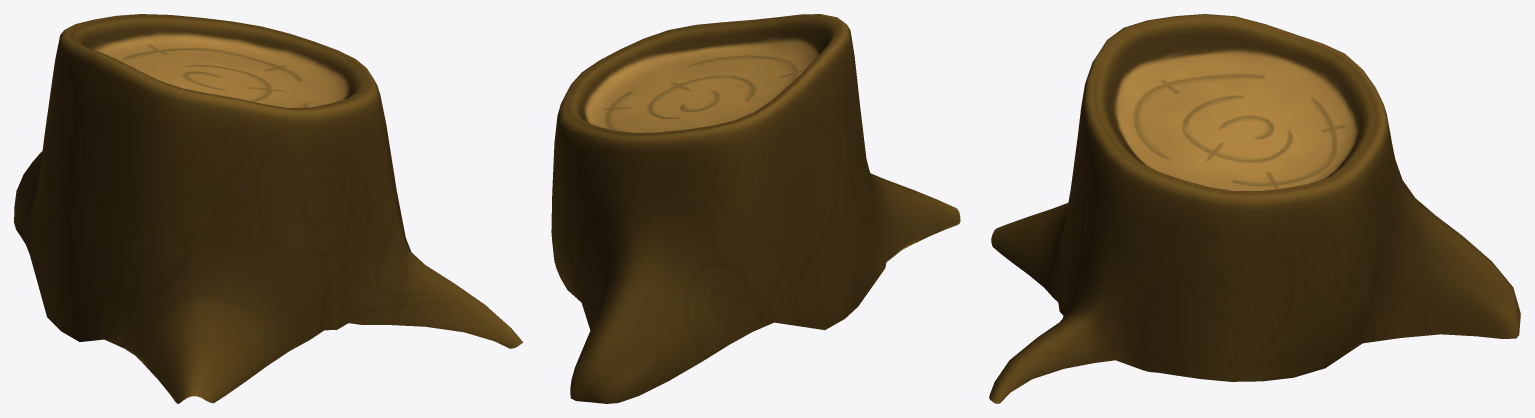
The model's file is Tree_stump_1.fbx.
3 renders of one model, left to right at view 1: azimuth 30°, elevation 25°; view 2: azimuth 150°, elevation 25°; view 3: azimuth 270°, elevation 25°, orthographic. The views are drawn at different scales.
Visible parts, largest first — view 1: Cube.002; view 2: Cube.002; view 3: Cube.002.
Boxes of the visible parts, left/top/right/bottom form: Cube.002: left=14, top=14, right=522, bottom=403; Cube.002: left=551, top=14, right=960, bottom=403; Cube.002: left=989, top=14, right=1520, bottom=403.
Bounding box in the file's own units: 777 × 632 × 1127.
